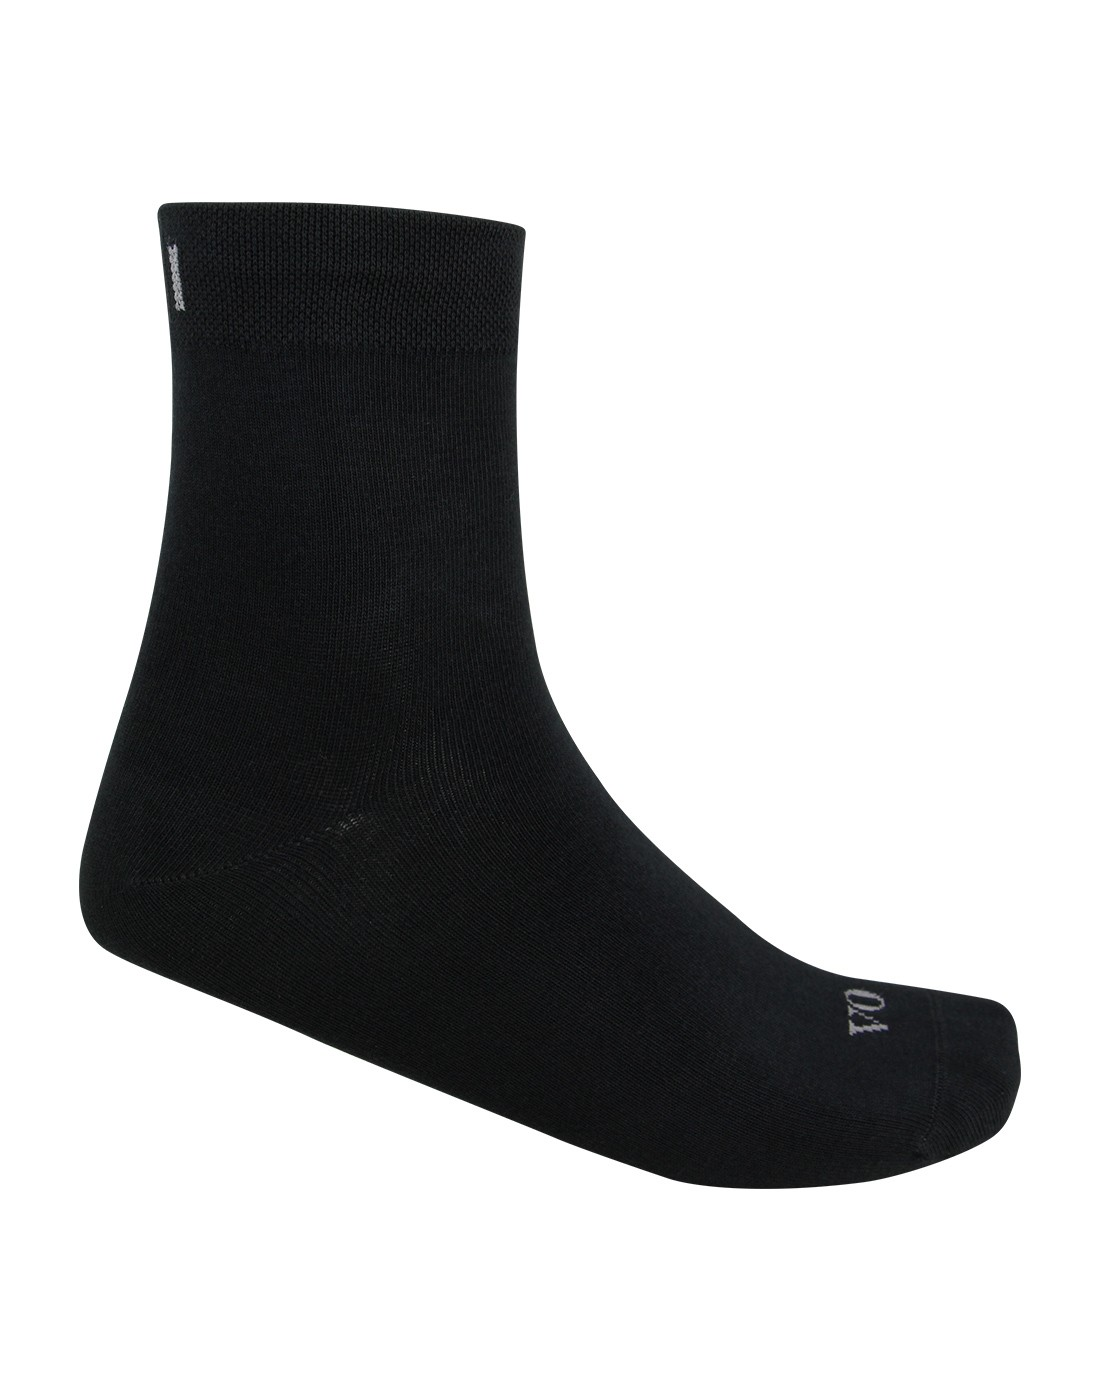flexible: (53, 197, 1026, 1187)
